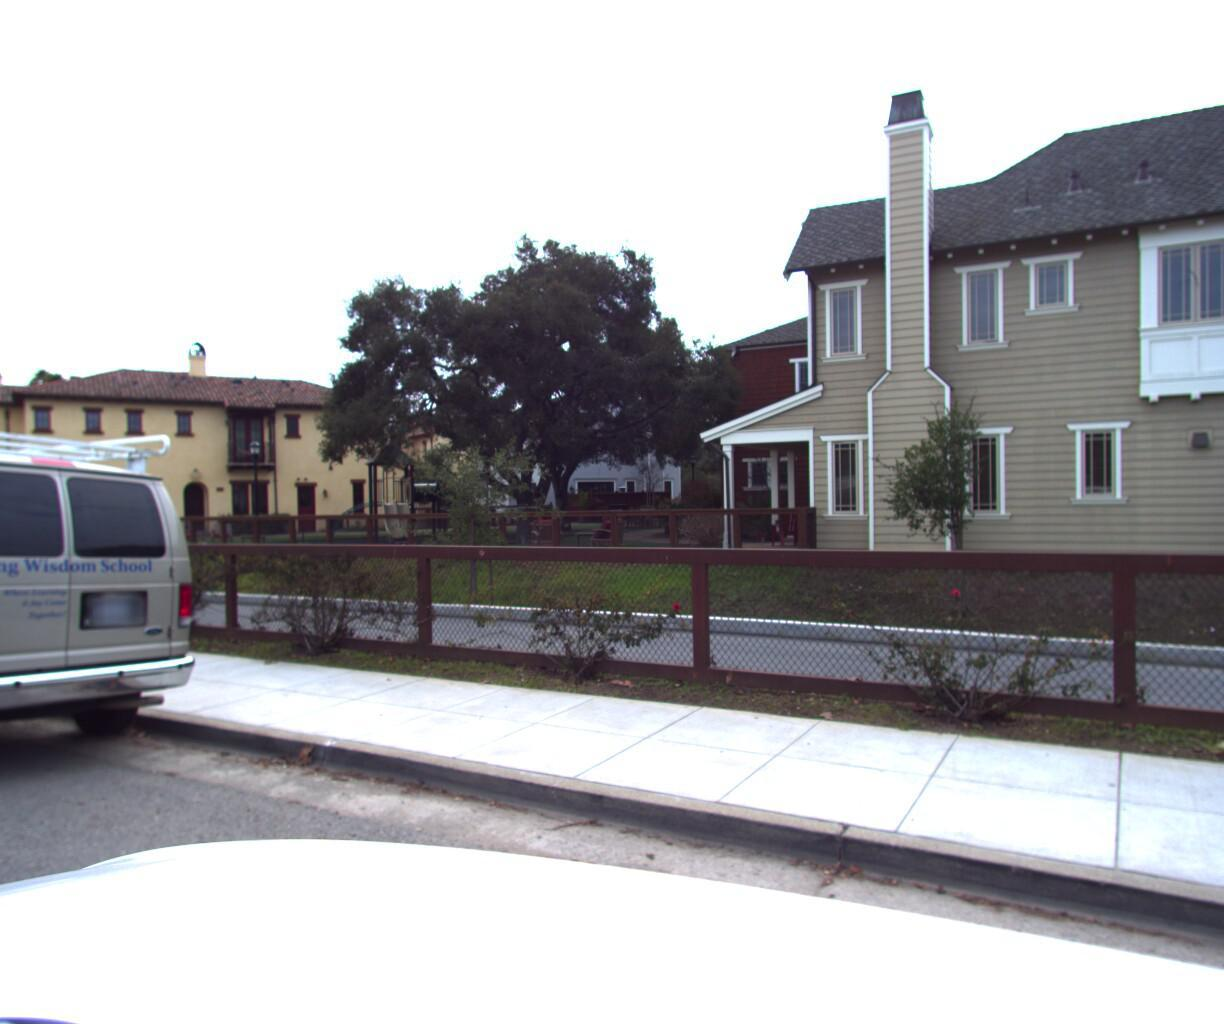car: (0, 402, 222, 823)
